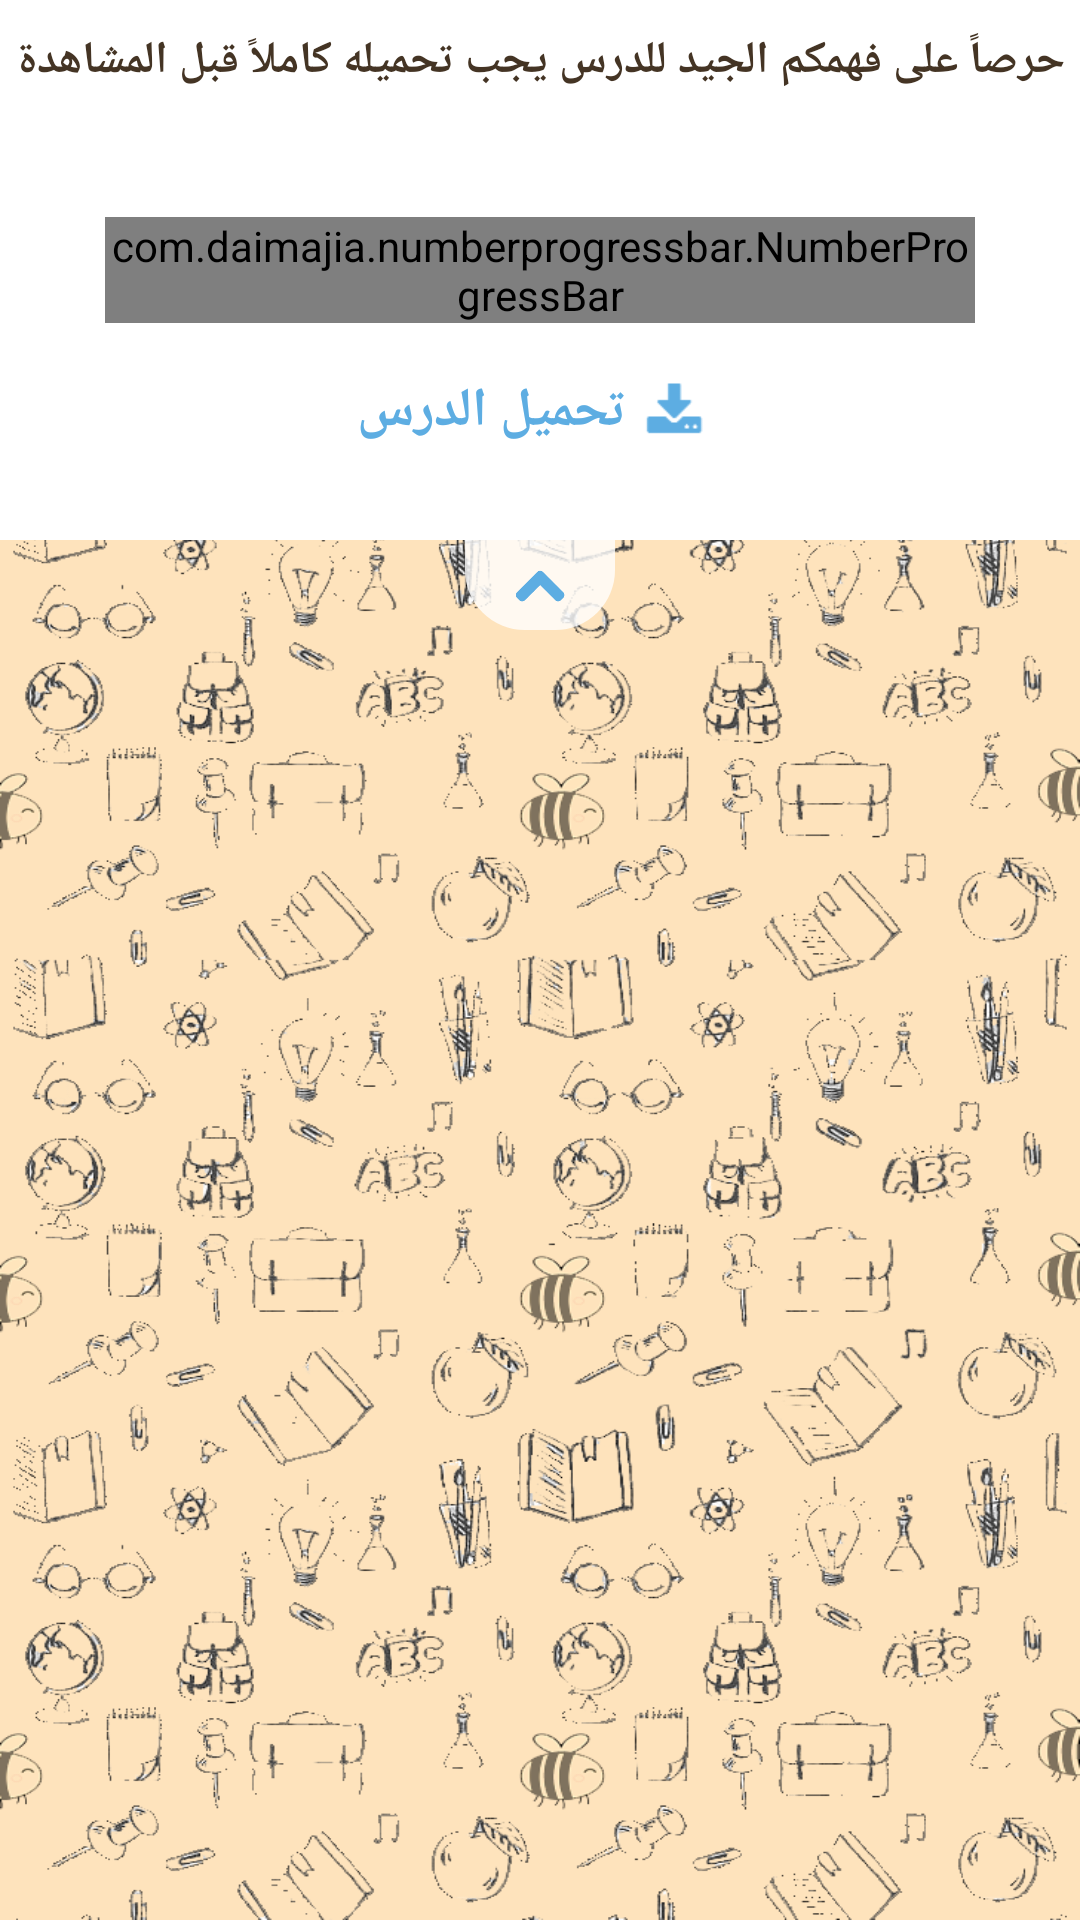

Named icons in this screenshot (1080 × 1920) and their centers, (x,y):
hide: (540,585)
